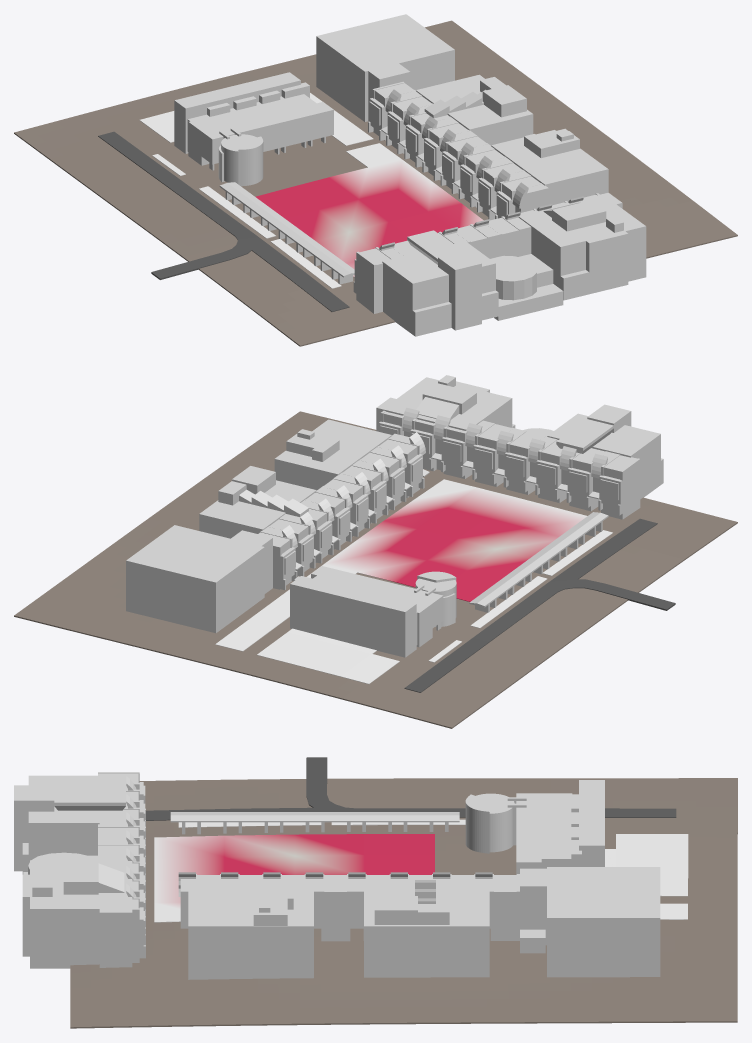
File: LV_UniversusPolonskyCommons.fbx
The picture shows the model from 3 angles, top to bottom: view 1: azimuth 30°, elevation 25°; view 2: azimuth 150°, elevation 25°; view 3: azimuth 270°, elevation 25°; orthographic projection. The views are drawn at different scales.
Visible parts, largest first — view 1: Ground_Blockout_01, UB_Blockout.002, GRASS, Library_Blockout_01, SHA_Blockout_01, ROADS, UB_Blockout.001, ERC_Blockout.001, PCShade_Blockout_01, Cube.005, WindowLarge_Blockout_01.015, Cube.004 (+16 smaller); view 2: Ground_Blockout_01, GRASS, SHA_Blockout_01, Library_Blockout_01, UB_Blockout.002, ROADS, UB_Blockout.001, ERC_Blockout.001, PCShade_Blockout_01, WindowLarge_Blockout_01.015, WindowLarge_Blockout_01.012, WindowLarge_Blockout_01.011 (+15 smaller); view 3: Ground_Blockout_01, UB_Blockout.002, GRASS, SHA_Blockout_01, UB_Blockout.001, ERC_Blockout.001, Library_Blockout_01, PCShade_Blockout_01, ROADS, WindowLarge_Blockout_01.004, WindowLarge_Blockout_01, SHA_ERC_Blockout.001 (+14 smaller).
Part boxes in pixels (bbox=[...]): Ground_Blockout_01: bbox=[14, 20, 737, 346]; UB_Blockout.002: bbox=[382, 192, 646, 336]; GRASS: bbox=[139, 93, 483, 288]; Library_Blockout_01: bbox=[174, 72, 333, 170]; SHA_Blockout_01: bbox=[316, 14, 454, 121]; ROADS: bbox=[98, 131, 349, 311]; UB_Blockout.001: bbox=[491, 128, 608, 204]; ERC_Blockout.001: bbox=[416, 74, 533, 145]; PCShade_Blockout_01: bbox=[219, 182, 354, 284]; Cube.005: bbox=[494, 254, 563, 320]; WindowLarge_Blockout_01.015: bbox=[353, 247, 393, 313]; Cube.004: bbox=[490, 255, 536, 300]; Ground_Blockout_01: bbox=[14, 411, 737, 728]; GRASS: bbox=[215, 479, 612, 684]; SHA_Blockout_01: bbox=[126, 525, 264, 633]; Library_Blockout_01: bbox=[290, 566, 443, 657]; UB_Blockout.002: bbox=[376, 375, 663, 498]; ROADS: bbox=[404, 518, 675, 692]; UB_Blockout.001: bbox=[274, 419, 391, 490]; ERC_Blockout.001: bbox=[199, 466, 316, 538]; PCShade_Blockout_01: bbox=[469, 512, 608, 612]; WindowLarge_Blockout_01.015: bbox=[598, 454, 640, 519]; WindowLarge_Blockout_01.012: bbox=[503, 430, 545, 494]; WindowLarge_Blockout_01.011: bbox=[472, 423, 513, 486]; Ground_Blockout_01: bbox=[70, 778, 737, 1028]; UB_Blockout.002: bbox=[14, 775, 132, 968]; GRASS: bbox=[154, 819, 688, 922]; SHA_Blockout_01: bbox=[547, 867, 660, 977]; UB_Blockout.001: bbox=[188, 890, 313, 979]; ERC_Blockout.001: bbox=[364, 890, 489, 977]; Library_Blockout_01: bbox=[507, 780, 604, 874]; PCShade_Blockout_01: bbox=[170, 812, 459, 834]; ROADS: bbox=[146, 757, 676, 820]; WindowLarge_Blockout_01.004: bbox=[321, 874, 350, 941]; WindowLarge_Blockout_01: bbox=[490, 874, 519, 940]; SHA_ERC_Blockout.001: bbox=[520, 868, 546, 945].
Size of the model in its own units: 22141 by 3085 by 24962.
